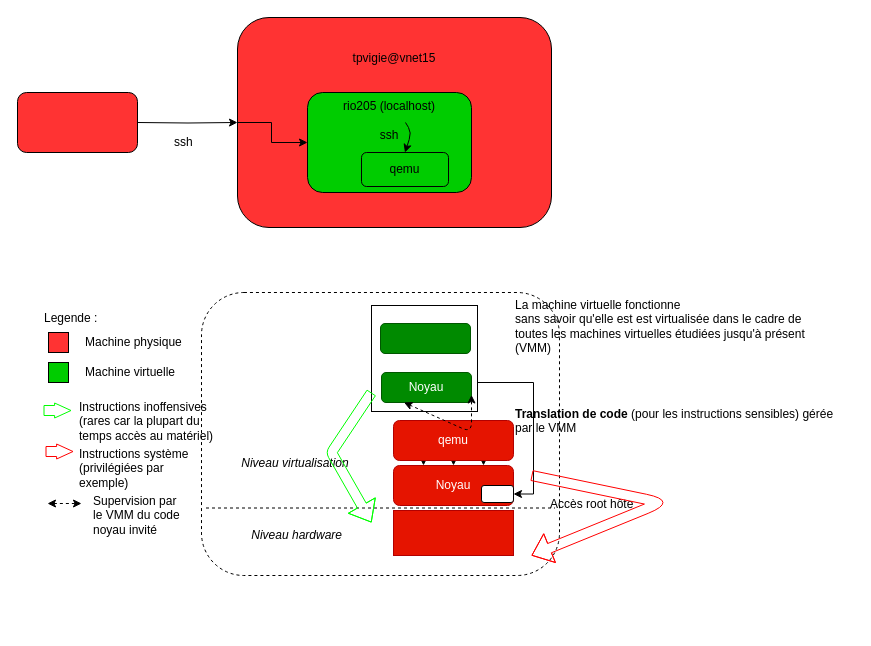
This 871x646 diagram has some shape labels left out. Here are the shapes that lost their labels. From the top down, the centre of each, then its label:
point 77,122: c132
point 425,338: Logiciels
point 497,493: KVM
point 453,533: Ressources rio205
